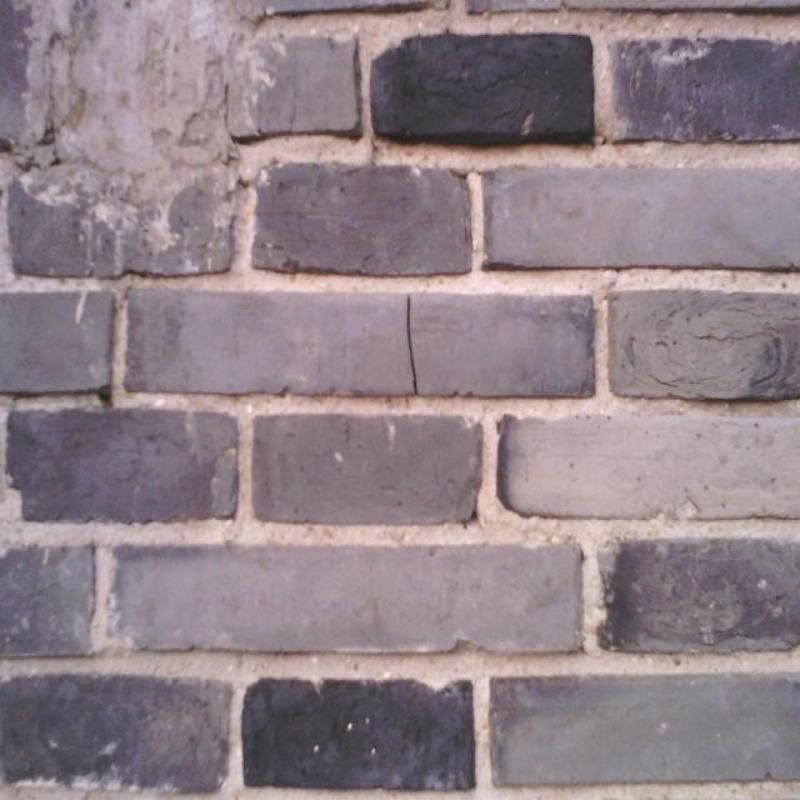pothole: (406, 295, 418, 396), (288, 60, 298, 131), (258, 101, 262, 135), (100, 394, 110, 405)
